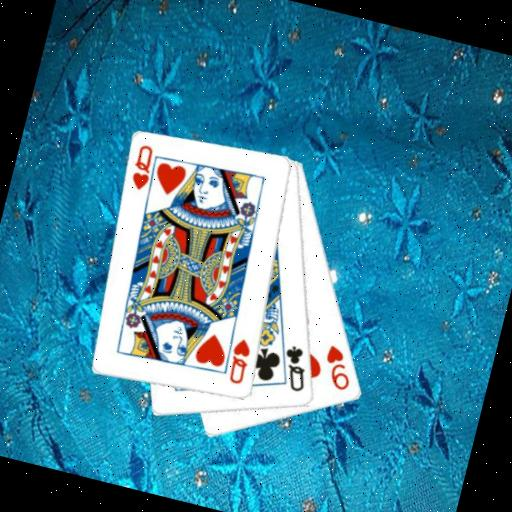9H: (316, 340, 360, 394)
QC: (275, 341, 316, 396)
QH: (125, 141, 164, 201), (223, 334, 256, 388)
